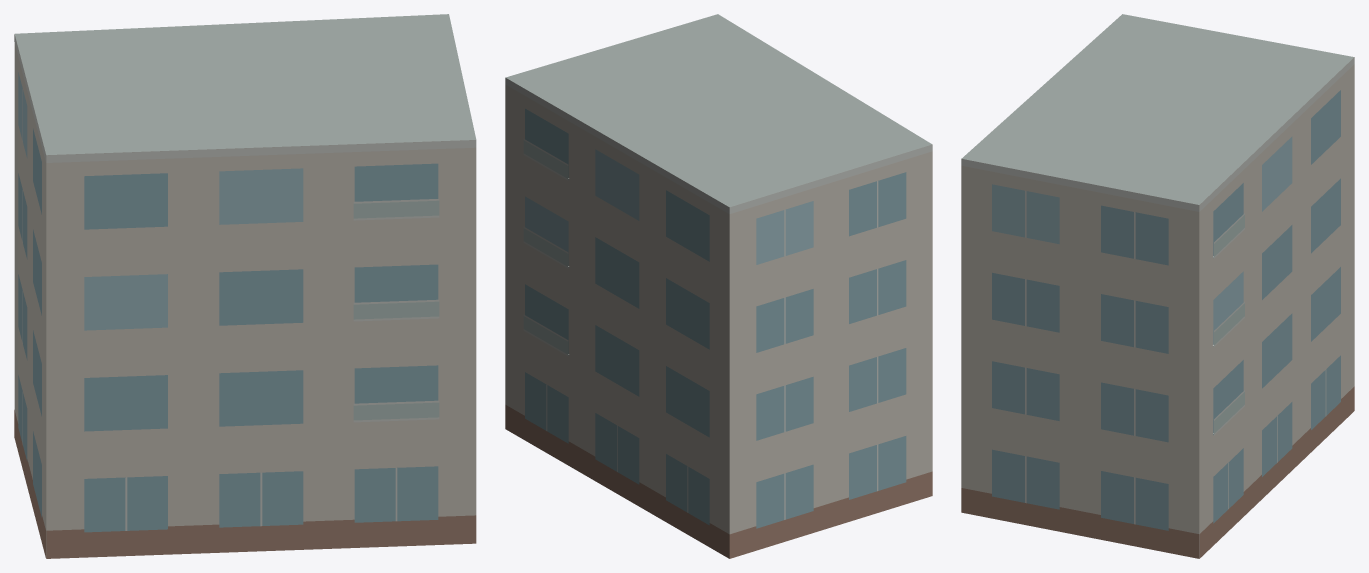
File: survey-upis-32524317.glb
3 views of the same model, side by side, from view 1: azimuth 30°, elevation 25°; view 2: azimuth 150°, elevation 25°; view 3: azimuth 270°, elevation 25° (orthographic). The views are drawn at different scales.
Parts seen in each view (by area): view 1: survey-upis-32524317.tmp; view 2: survey-upis-32524317.tmp; view 3: survey-upis-32524317.tmp.
Boxes of the visible parts, x1=… form: survey-upis-32524317.tmp: x1=14, y1=14, x2=476, y2=558; survey-upis-32524317.tmp: x1=505, y1=14, x2=932, y2=558; survey-upis-32524317.tmp: x1=961, y1=14, x2=1354, y2=558.
Size of the model in its own units: 14.48 by 12.5 by 12.6.
